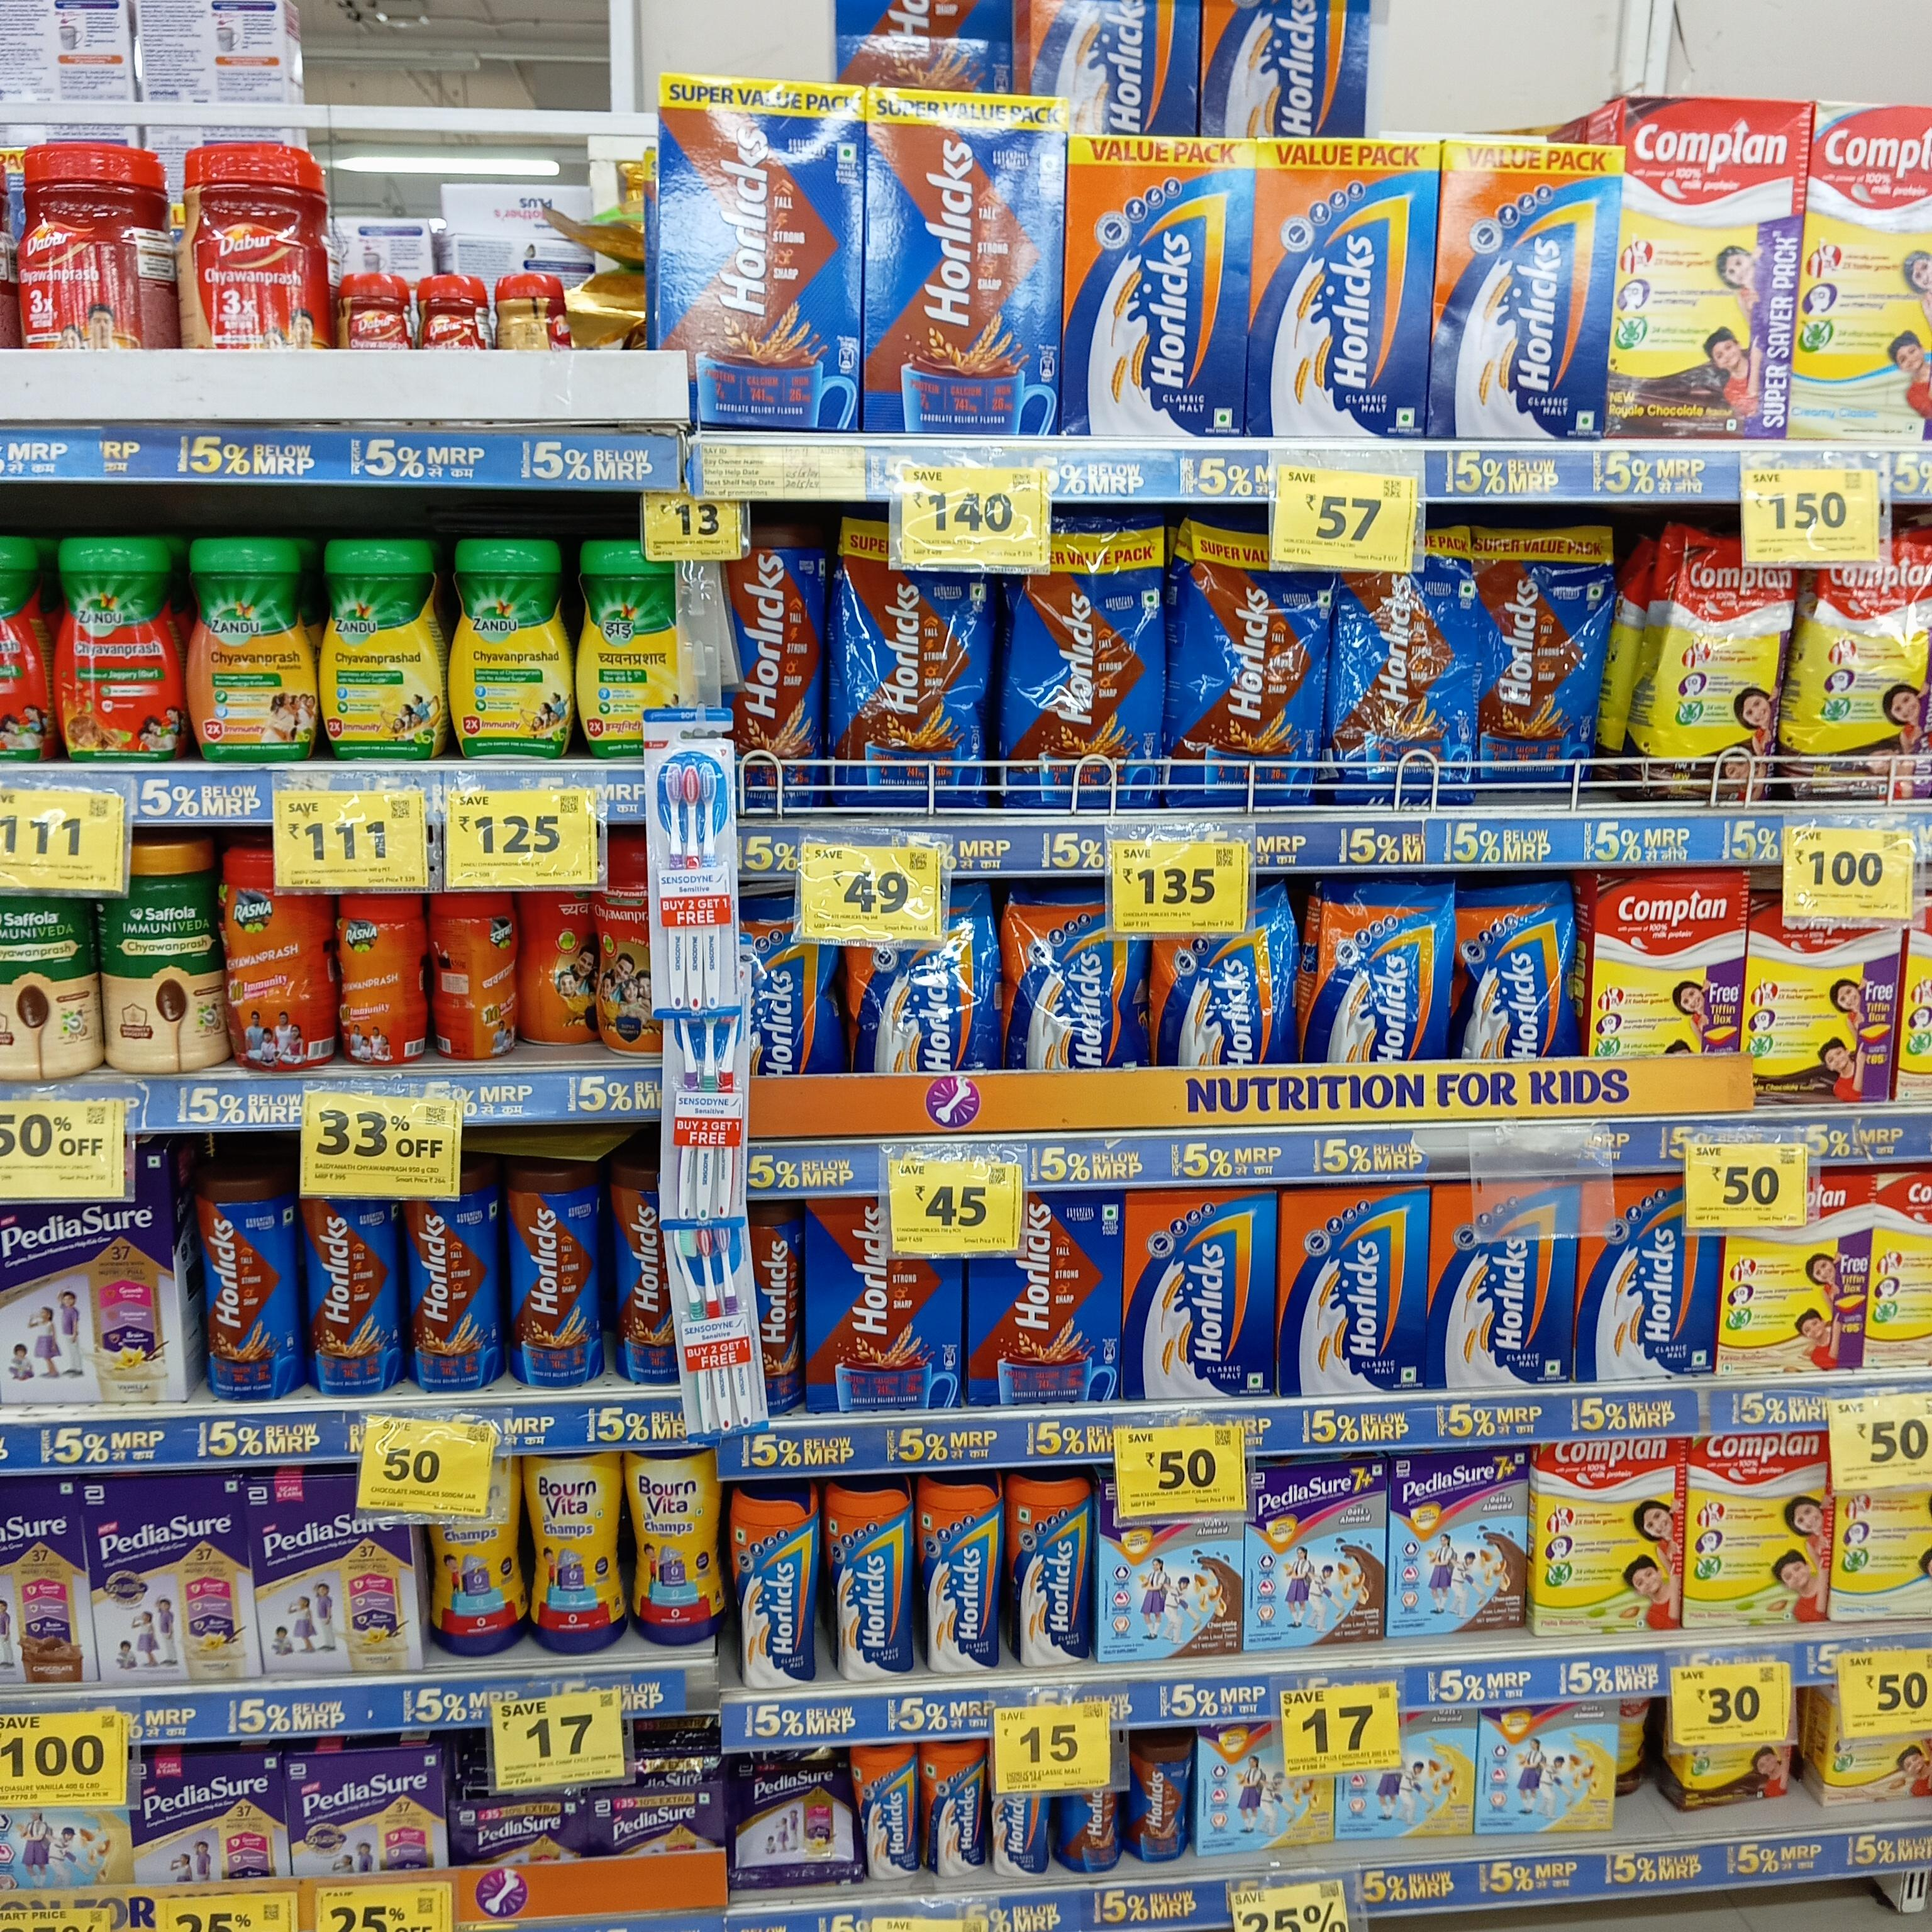BOURN_VITA_CHAMPS_500_G_JAR: (531, 1451, 626, 1654), (633, 1451, 717, 1644)
COMPLAN_CHOCOLATE_1_KG_PACK: (1617, 94, 1796, 437)
COMPLAN_CHOCOLATE_500_GMS_PACK: (1748, 913, 1893, 1104), (1596, 878, 1739, 1054)
COMPLAN_PISTA_BADAM_500_GMS_PACK: (1539, 1440, 1679, 1635), (1691, 1431, 1822, 1628)
COMPLAN_RC_POUCH_700_GMS_12: (1663, 538, 1787, 805), (1815, 563, 1932, 803)
HORLICK_CHOCOLATE_1_KG_JAR: (732, 529, 823, 819)
HORLICK_CHOCOLATE_1_KG_PACK: (658, 74, 860, 433), (865, 90, 1060, 433)
HORLICK_CHOCOLATE_200_G_JAR: (1129, 1741, 1192, 1870)
HORLICK_CHOCOLATE_500_G_JAR: (200, 1180, 301, 1405), (502, 1166, 593, 1387), (304, 1194, 396, 1396), (405, 1182, 492, 1394), (612, 1164, 676, 1378)
HORLICK_CHOCOLATE_500_G_PACK: (810, 1200, 959, 1414), (982, 1194, 1120, 1410)
HORLICK_CHOCOLATE_750_G_POUCH: (1021, 524, 1164, 810), (1182, 525, 1323, 807), (840, 543, 982, 807), (1338, 554, 1479, 812), (1483, 536, 1603, 784)
HORLICK_CLASSIC_MALT_200_G_JAR: (922, 1743, 984, 1877), (860, 1746, 918, 1884)
HORLICK_CLASSIC_MALT_500_G_JAR: (826, 1484, 915, 1683), (736, 1484, 819, 1693), (1010, 1476, 1093, 1674), (920, 1474, 996, 1675)
HORLICK_CLASSIC_MALT_500_G_PACK: (1437, 134, 1612, 442), (1070, 134, 1249, 435), (1254, 138, 1422, 435), (1281, 1187, 1428, 1403), (1127, 1191, 1274, 1401), (1433, 1185, 1575, 1385), (1589, 1178, 1716, 1376)
HORLICK_CLASSIC_MALT_750_G_POUCH: (1327, 886, 1449, 1060), (1461, 885, 1580, 1062), (1014, 895, 1131, 1069), (1168, 920, 1286, 1067)
PEDIASURE_7_PLUS_CHOCOLATE_400_G_PACK: (1251, 1461, 1385, 1652), (1387, 1453, 1522, 1638)
PEDIASURE_VANILLA_500_G_PACK: (0, 1201, 170, 1405), (90, 1479, 244, 1681), (251, 1479, 410, 1672)
